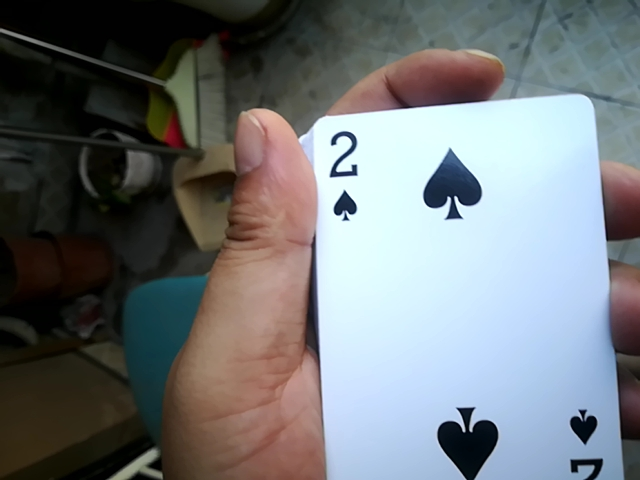ht 2: (307, 107, 635, 479)
